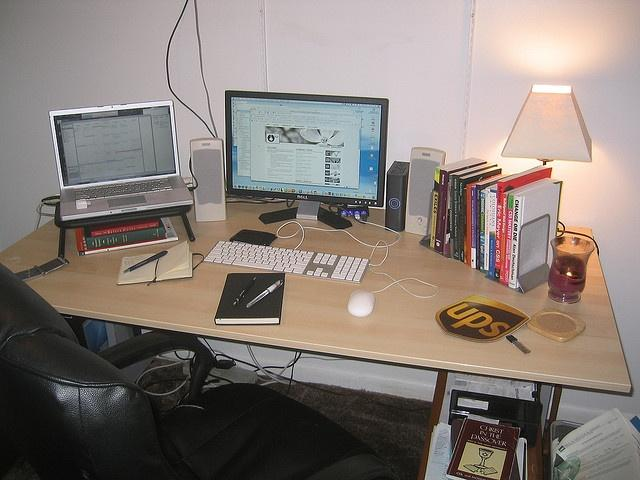AIO PC-Monitor-TV: (223, 89, 389, 209)
Kursi: (0, 260, 392, 479)
Meja: (0, 191, 632, 396)
